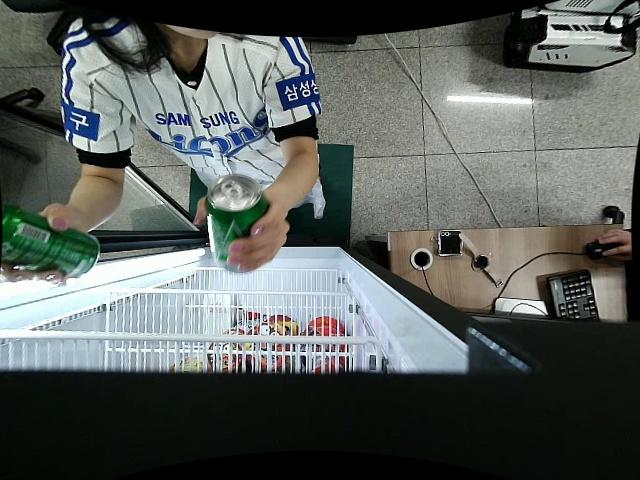00_hand: (192, 188, 290, 271), (0, 205, 73, 289)
12_chilsungCider: (0, 209, 99, 279), (204, 173, 271, 269)
